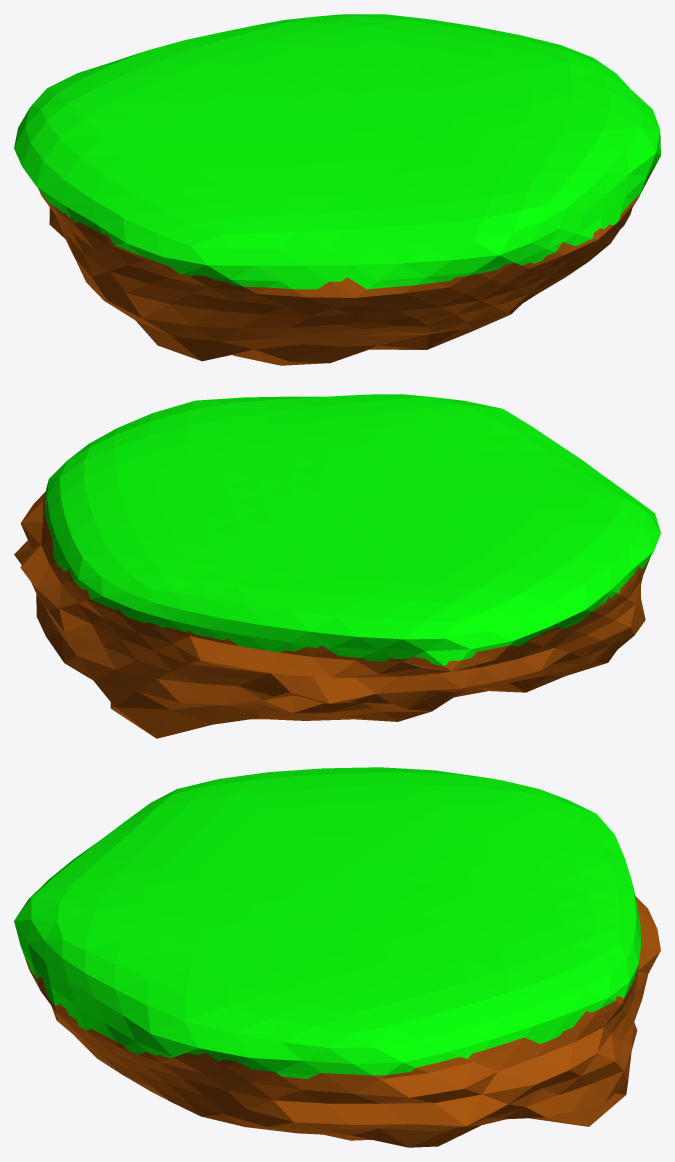
Rendered from Island_1.fbx.
The picture shows the model from 3 angles, top to bottom: view 1: azimuth 30°, elevation 25°; view 2: azimuth 150°, elevation 25°; view 3: azimuth 270°, elevation 25°; orthographic projection. The views are drawn at different scales.
Parts seen in each view (by area): view 1: Icosphere; view 2: Icosphere; view 3: Icosphere.
Part boxes in pixels (x1=…): Icosphere: x1=14, y1=14, x2=660, y2=365; Icosphere: x1=14, y1=394, x2=660, y2=738; Icosphere: x1=14, y1=767, x2=660, y2=1147.
Bounding box in the file's own units: 193 × 62.47 × 180.
